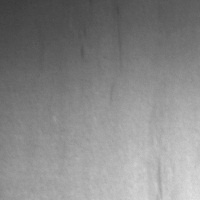inclusion: (105, 2, 135, 65), (152, 155, 170, 199)
